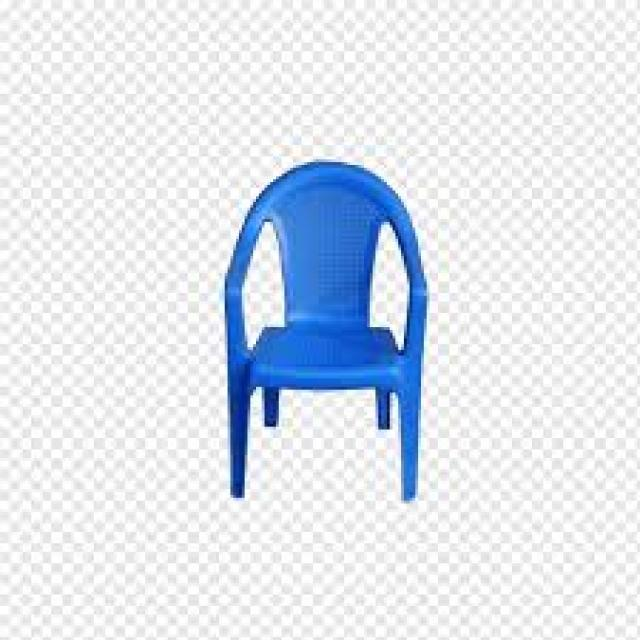chair: (218, 101, 440, 522)
